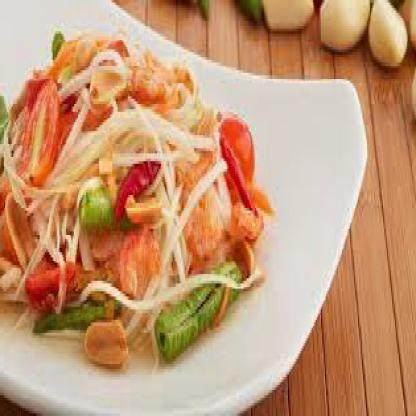Papaya Salad: (1, 13, 289, 413)
